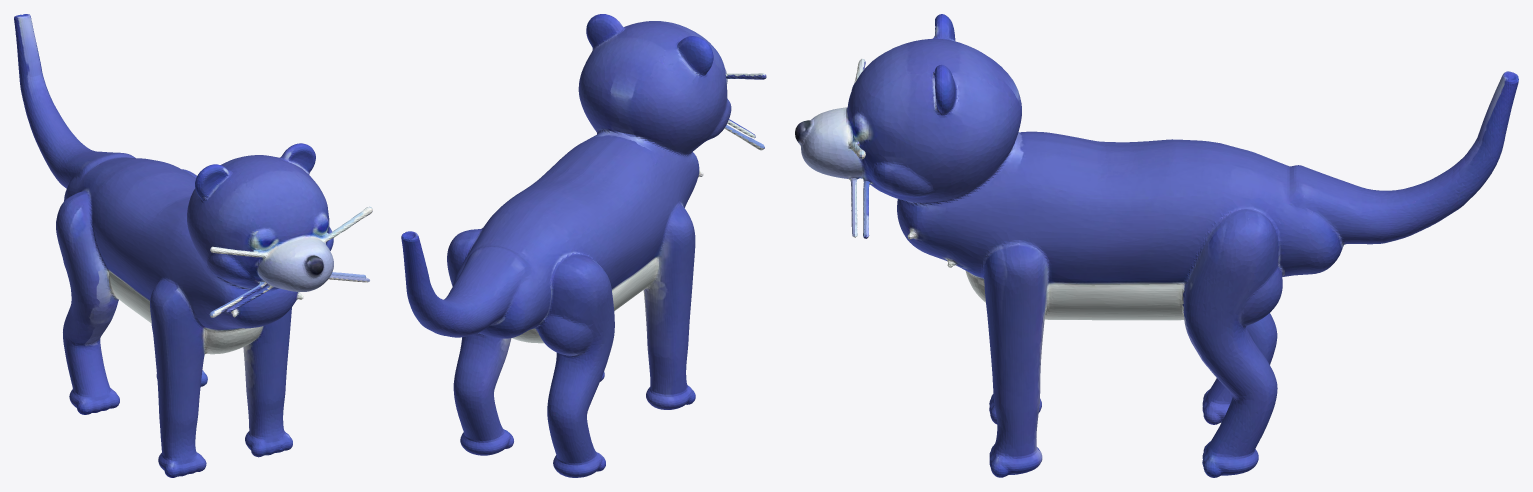
Rendered from creature-065.glb.
3 views of the same model, side by side, from view 1: azimuth 30°, elevation 25°; view 2: azimuth 150°, elevation 25°; view 3: azimuth 270°, elevation 25° (orthographic). The views are drawn at different scales.
Parts seen in each view (by area): view 1: tmpra2uafq2.ply; view 2: tmpra2uafq2.ply; view 3: tmpra2uafq2.ply.
Boxes of the visible parts, x1,y1,x2,y2 form: tmpra2uafq2.ply: (14,14,372,477); tmpra2uafq2.ply: (401,14,766,477); tmpra2uafq2.ply: (795,14,1518,477).
Size of the model in its own units: 0.6365 by 1.22 by 1.99.
1 material, 1 textured.
